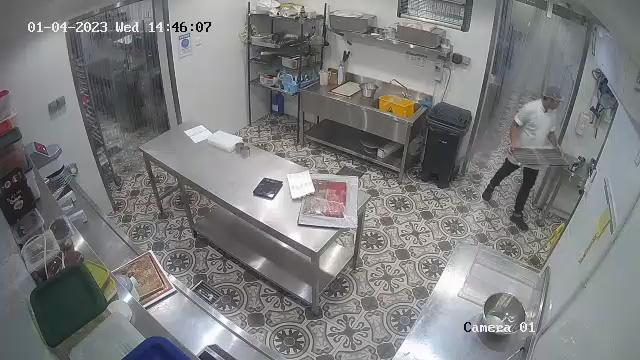no_apron: (516, 104, 554, 160)
